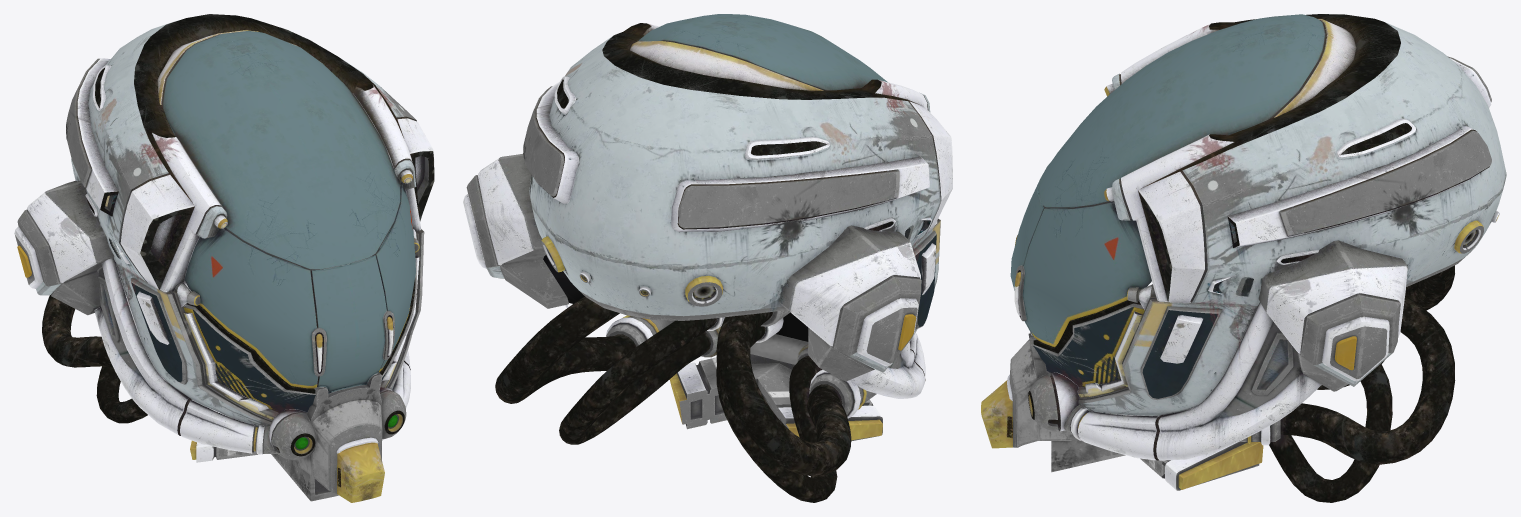
The model's file is DamagedHelmet_draco.glb.
3 views of the same model, side by side, from view 1: azimuth 30°, elevation 25°; view 2: azimuth 150°, elevation 25°; view 3: azimuth 270°, elevation 25° (orthographic). The views are drawn at different scales.
Visible parts, largest first — view 1: node_damagedHelmet_-6514; view 2: node_damagedHelmet_-6514; view 3: node_damagedHelmet_-6514.
Part boxes in pixels (x1,y1,x2,y2): node_damagedHelmet_-6514: (14,14,434,502); node_damagedHelmet_-6514: (463,14,952,502); node_damagedHelmet_-6514: (981,14,1506,502).
Size of the model in its own units: 1.89 by 1.8 by 2.
1 material, 1 textured.
